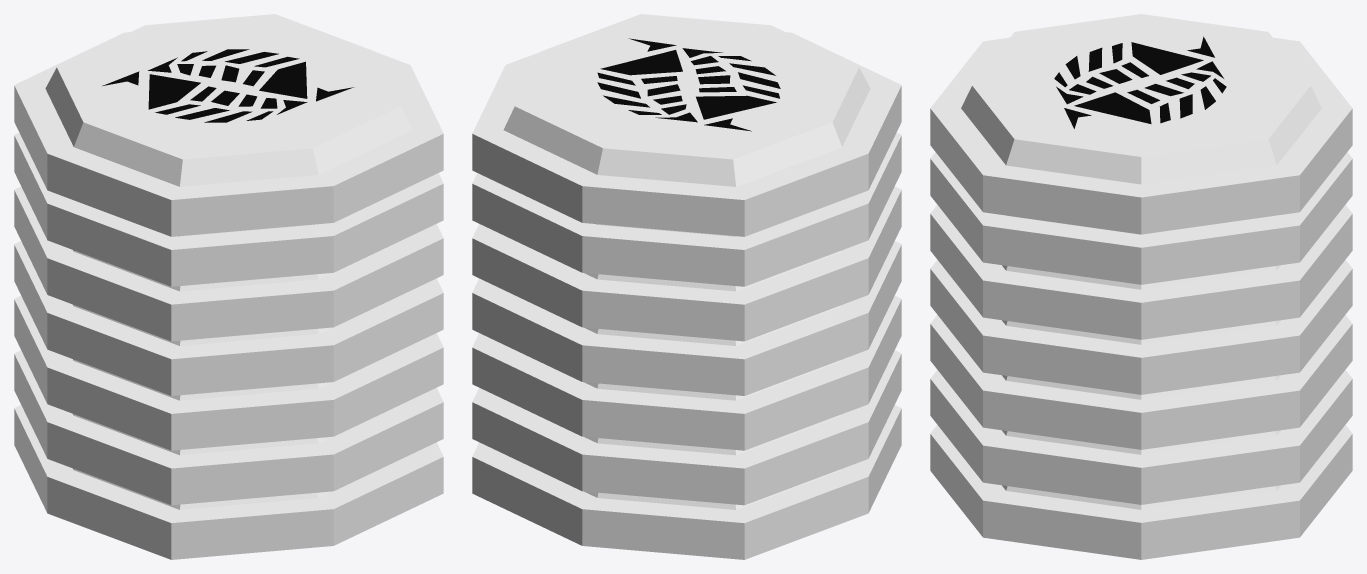
The model's file is Drink_Lids.glb.
3 renders of one model, left to right at view 1: azimuth 30°, elevation 25°; view 2: azimuth 150°, elevation 25°; view 3: azimuth 270°, elevation 25°, orthographic.
Visible parts, largest first — view 1: sushi_bar_caps_geo; view 2: sushi_bar_caps_geo; view 3: sushi_bar_caps_geo.
Part boxes in pixels (x1,y1,x2,y2): sushi_bar_caps_geo: (14, 14, 443, 559); sushi_bar_caps_geo: (472, 14, 901, 559); sushi_bar_caps_geo: (930, 14, 1352, 559).
Bounding box in the file's own units: 0.1403 × 0.1418 × 0.1403.
Materials: 1 (1 with a texture image).
